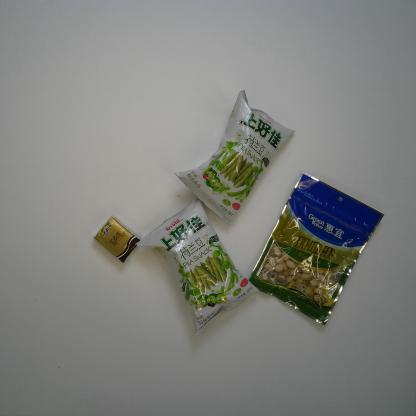Dried Fruit: (248, 171, 386, 326)
Puffed Food: (137, 196, 261, 336), (173, 88, 297, 226)
Tissue: (93, 214, 142, 263)
